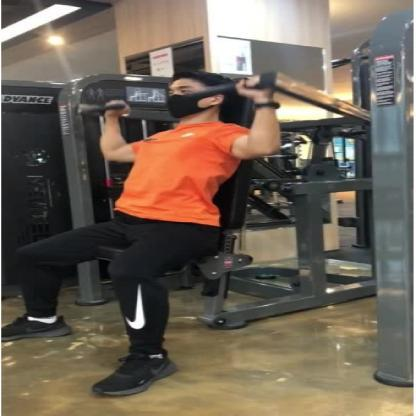shoulder press machine: (1, 48, 416, 416)
